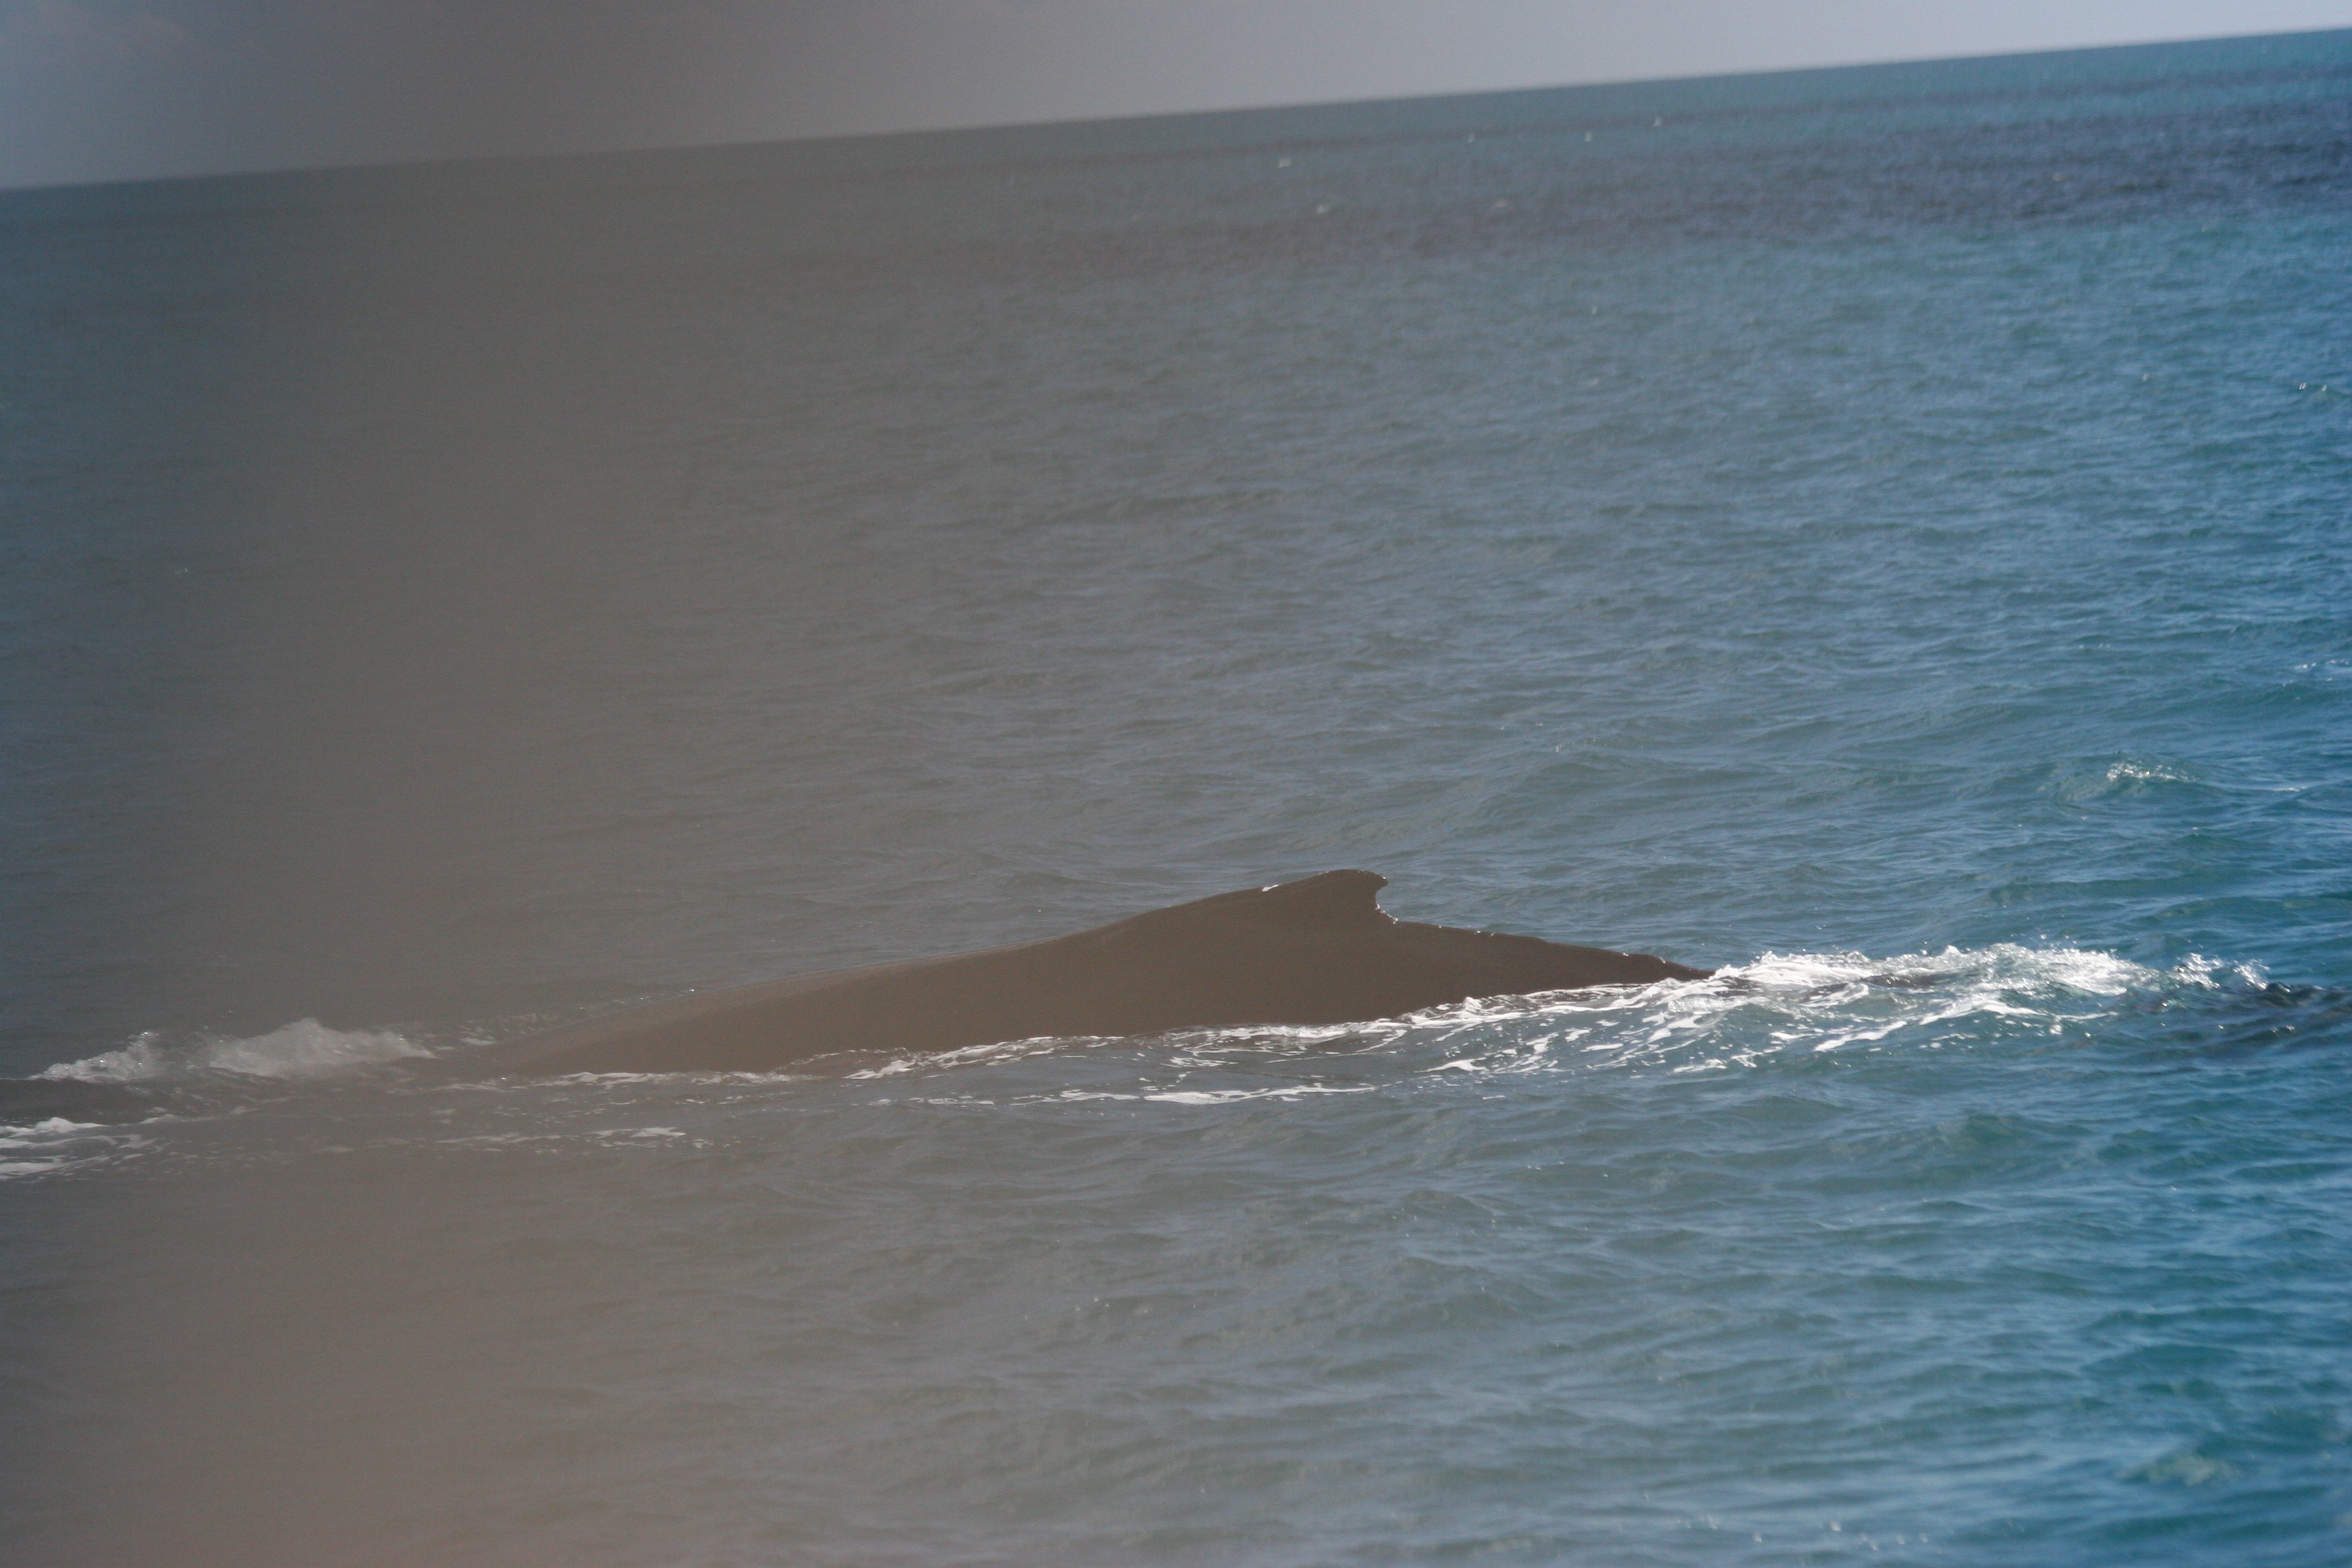fin: (1055, 856, 1440, 952)
